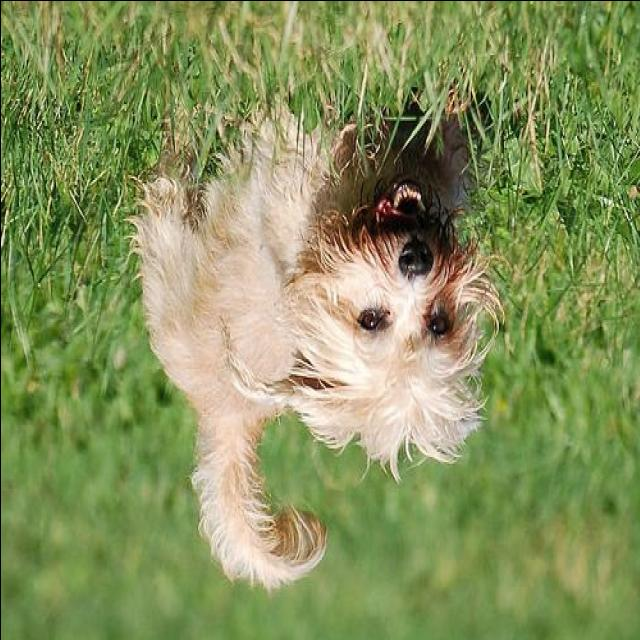dandie_dinmont: (137, 82, 503, 588)
